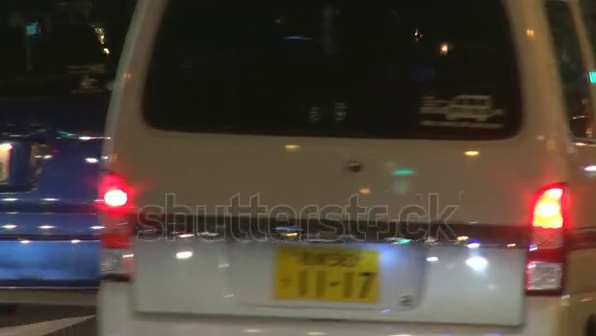licenseplate: (275, 239, 382, 304)
